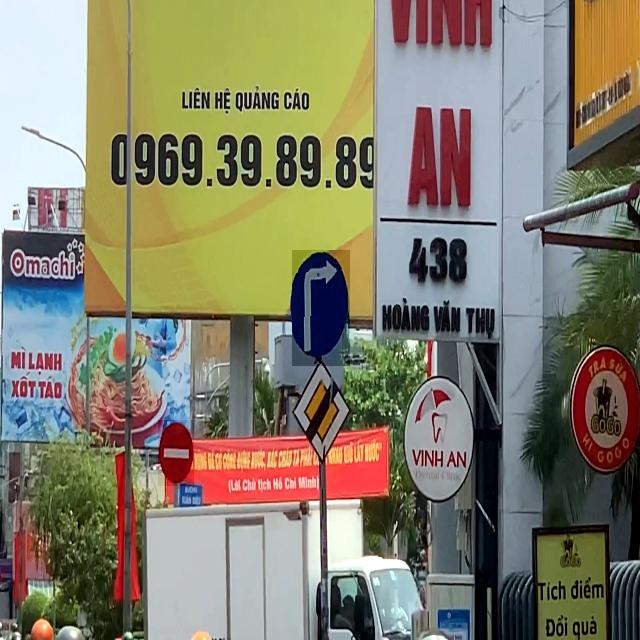bien_cam: (292, 250, 350, 366), (158, 421, 194, 486)
